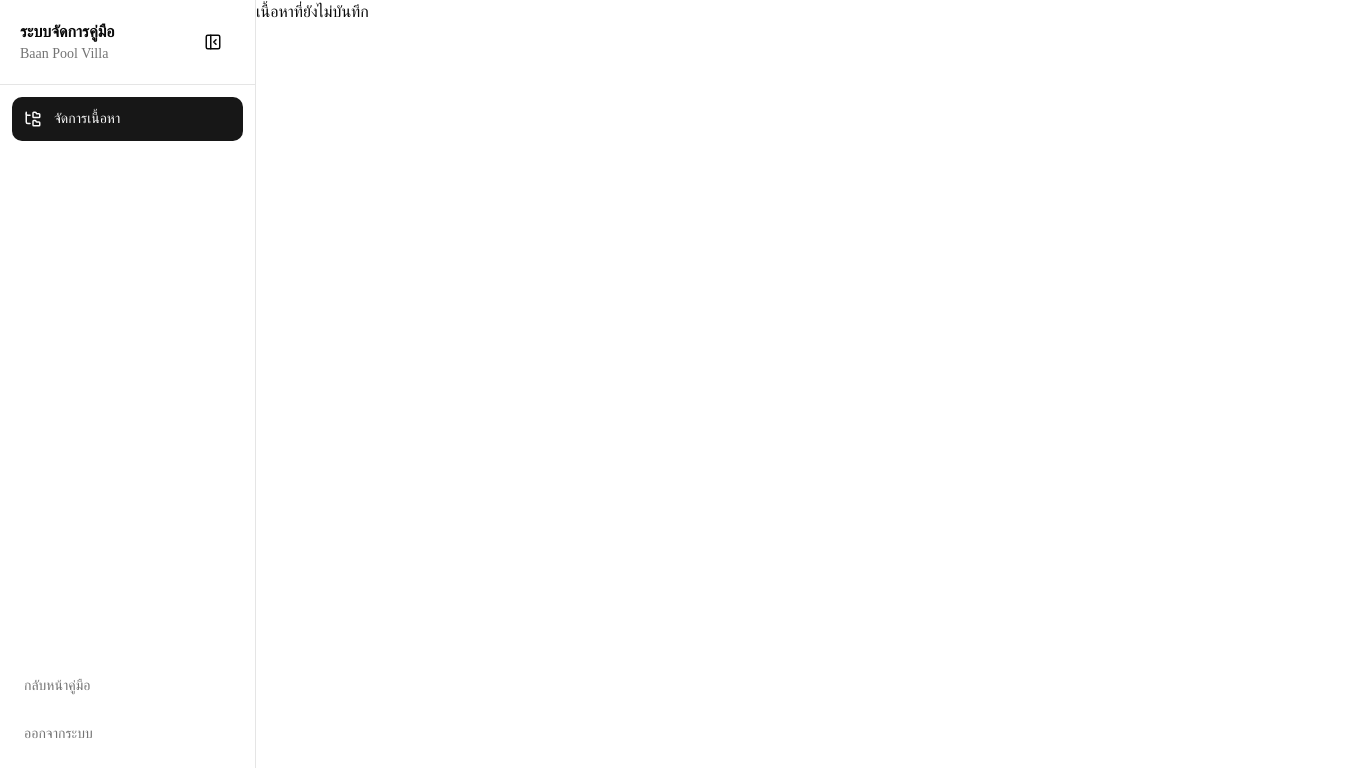
Test: keeps guarding unsaved work when a confirmed logout fails
The image size is (1366, 768).
Click the button "ออกจากระบบ". click: (128, 734)
box: x1=12 y1=712 x2=243 y2=756
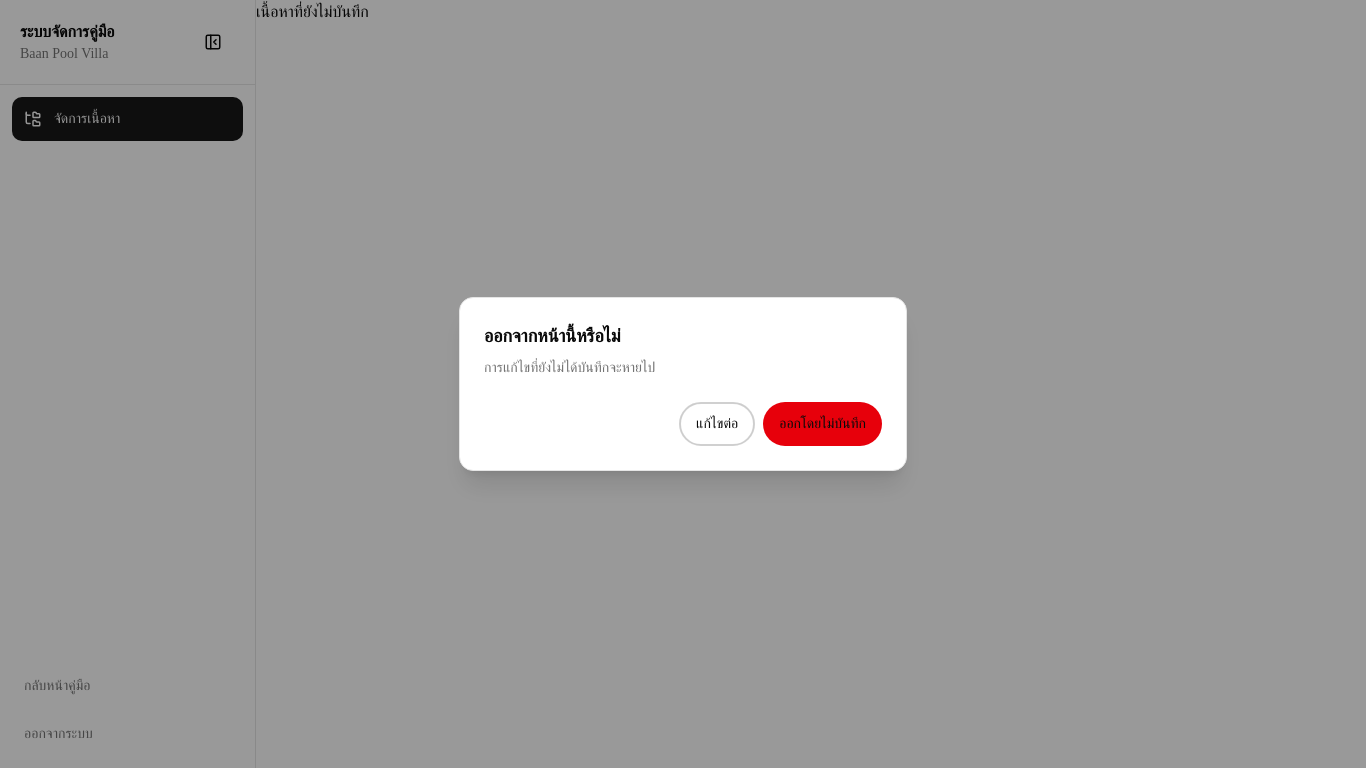
Click the button "ออกโดยไม่บันทึก". click: (823, 424)
box: x1=763 y1=402 x2=882 y2=446
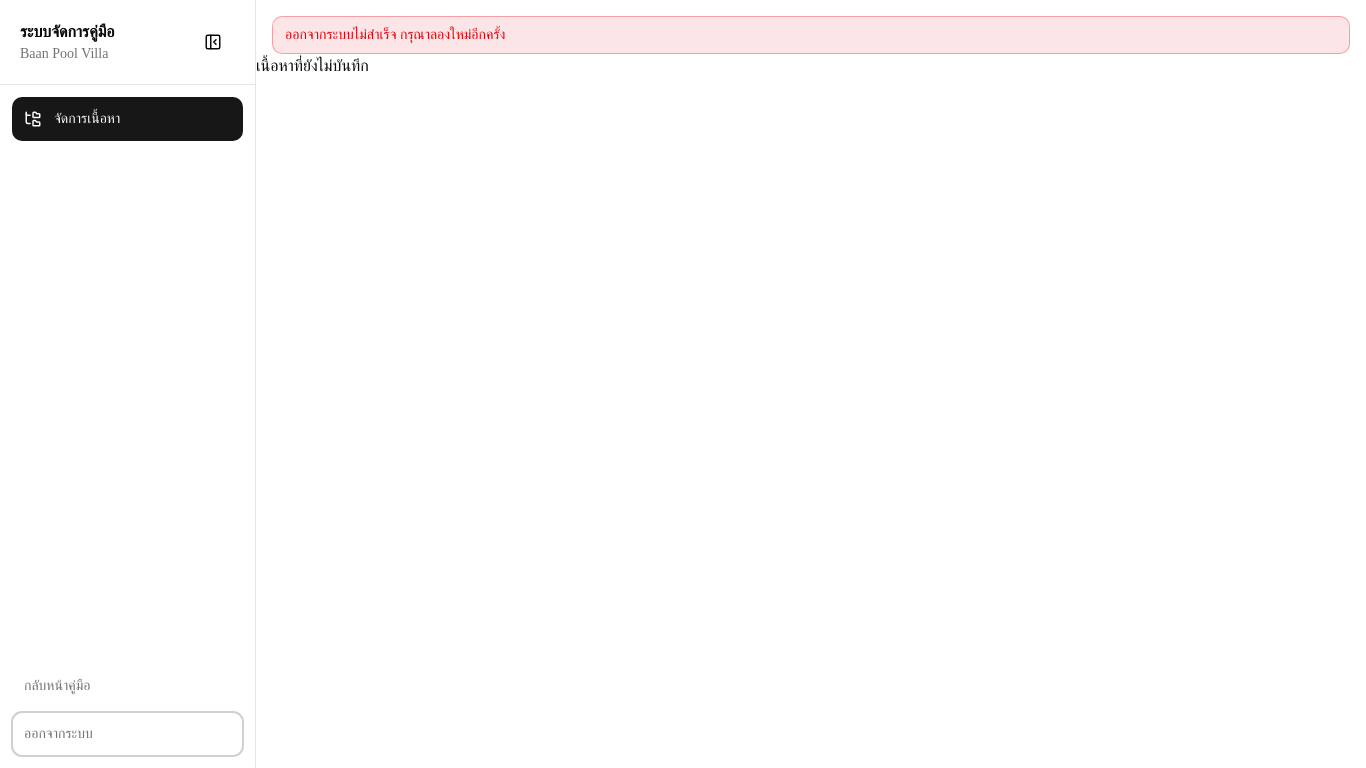
Now the text "ออกจากระบบไม่สำเร็จ กรุณาลองใหม่อีกครั้ง" is shown, box x1=272 y1=16 x2=1350 y2=54
Click the link "จัดการเนื้อหา". click: (128, 119)
box: x1=12 y1=97 x2=243 y2=141
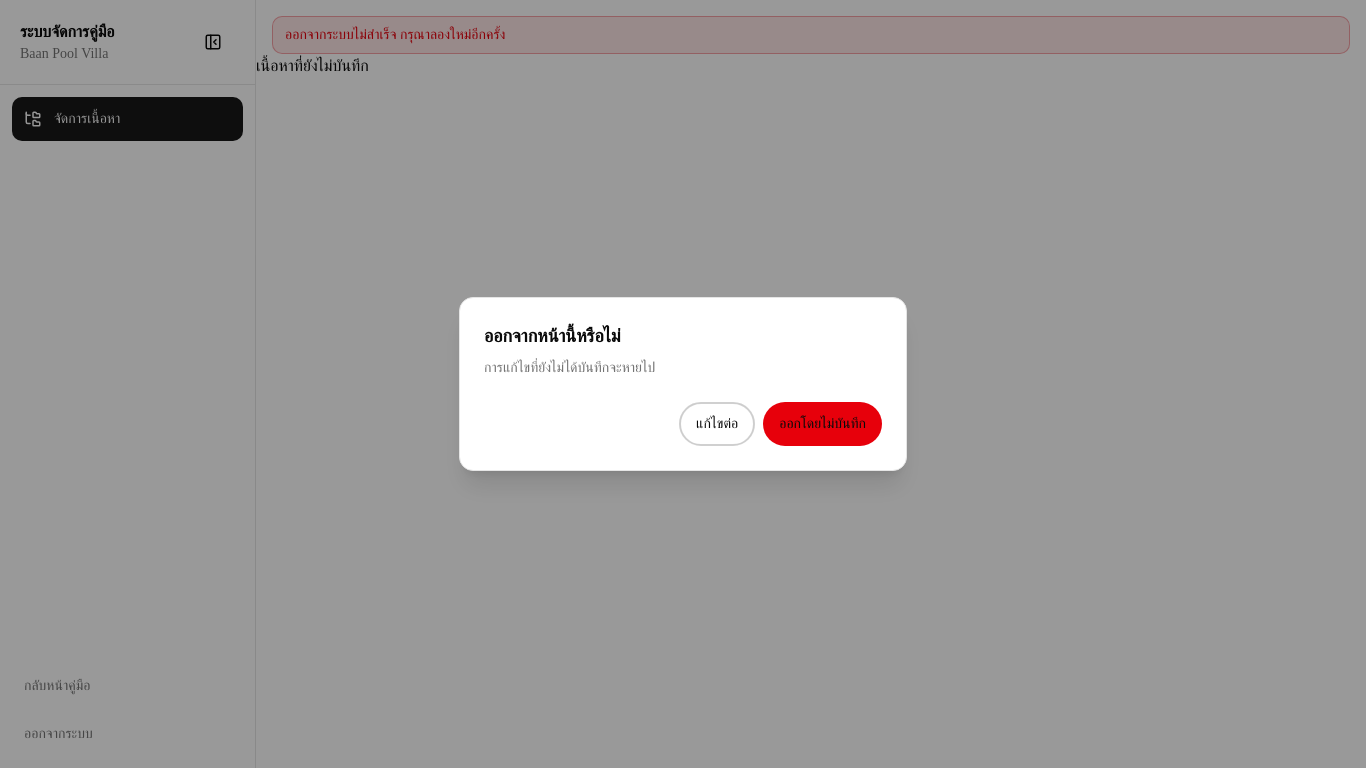
Now the dialog "ออกจากหน้านี้หรือไม่" is shown, box x1=459 y1=297 x2=907 y2=471
